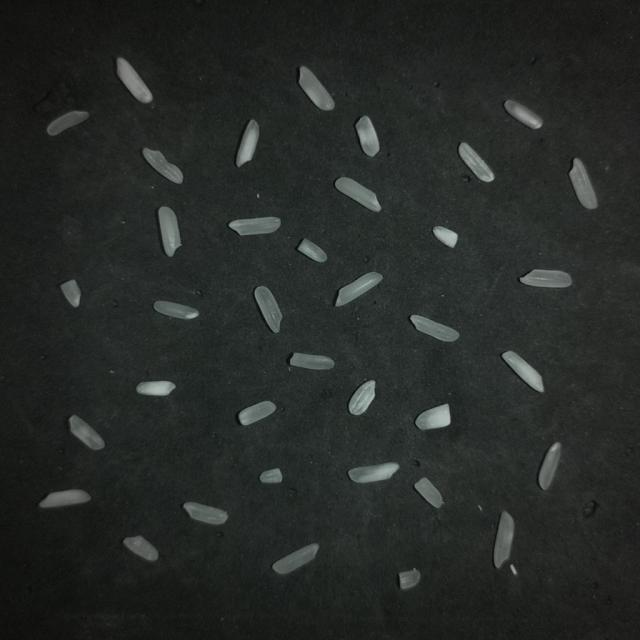broken: (414, 478, 442, 508), (297, 239, 327, 262), (60, 280, 81, 307), (399, 569, 420, 589), (260, 469, 282, 483)
chalky: (502, 351, 543, 392), (117, 57, 152, 103), (158, 207, 181, 256), (504, 100, 542, 129), (236, 120, 259, 167), (349, 463, 399, 483), (39, 489, 90, 508), (415, 404, 450, 429), (123, 536, 158, 561), (136, 381, 176, 396), (432, 226, 458, 248)
whole: (335, 272, 383, 306), (335, 177, 381, 211), (299, 66, 334, 110), (143, 148, 183, 184), (569, 159, 597, 209), (272, 544, 318, 574), (459, 143, 494, 182), (410, 315, 459, 341), (255, 286, 282, 333), (69, 415, 104, 449), (494, 512, 514, 568), (539, 442, 561, 490), (47, 111, 89, 136), (183, 502, 228, 524), (355, 116, 379, 156), (519, 270, 571, 288), (229, 217, 280, 235), (349, 380, 375, 415), (239, 401, 276, 425), (154, 301, 199, 319), (290, 353, 334, 369)
